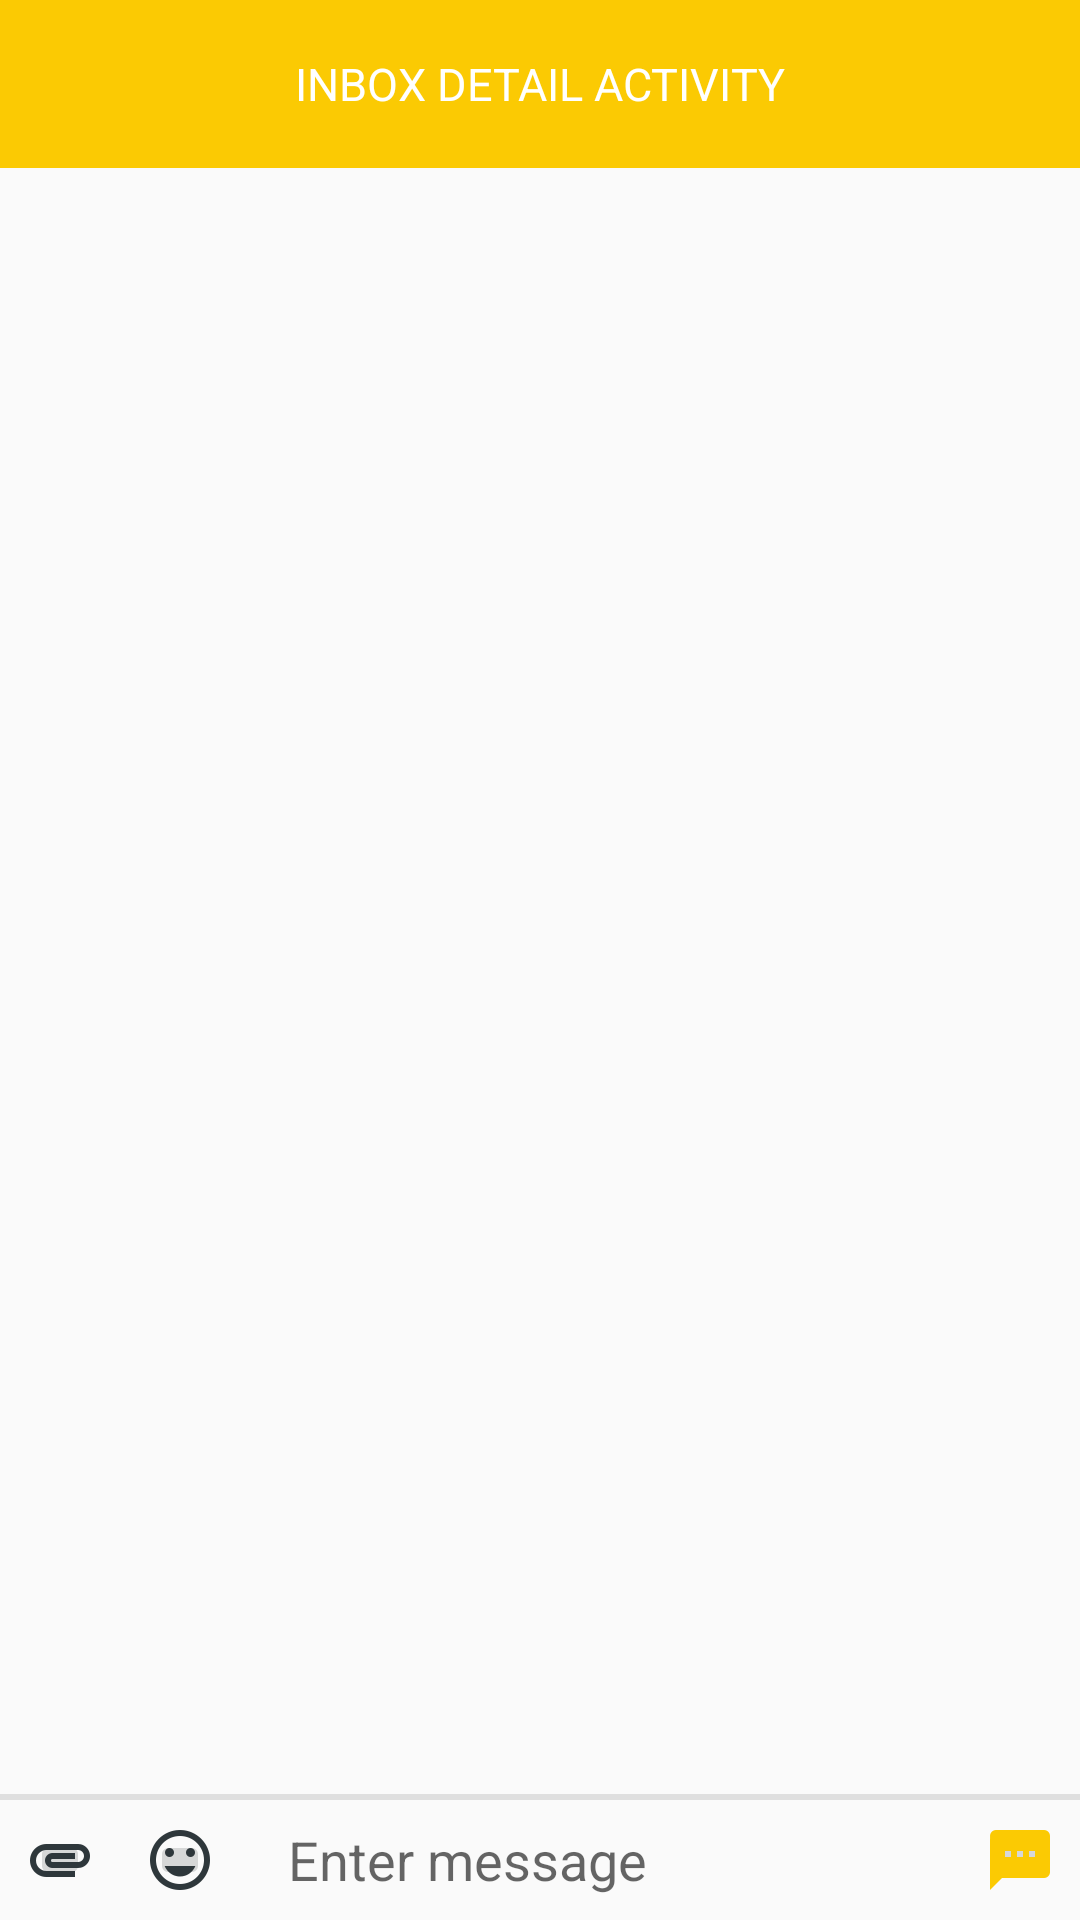

Named icons in this screenshot (1080×1920) and their bounding boxes, (x1, y1, x2, y2):
attachment: (30, 1844, 90, 1877)
emoticon: (150, 1830, 210, 1890)
